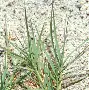weed: (0, 3, 88, 89)
